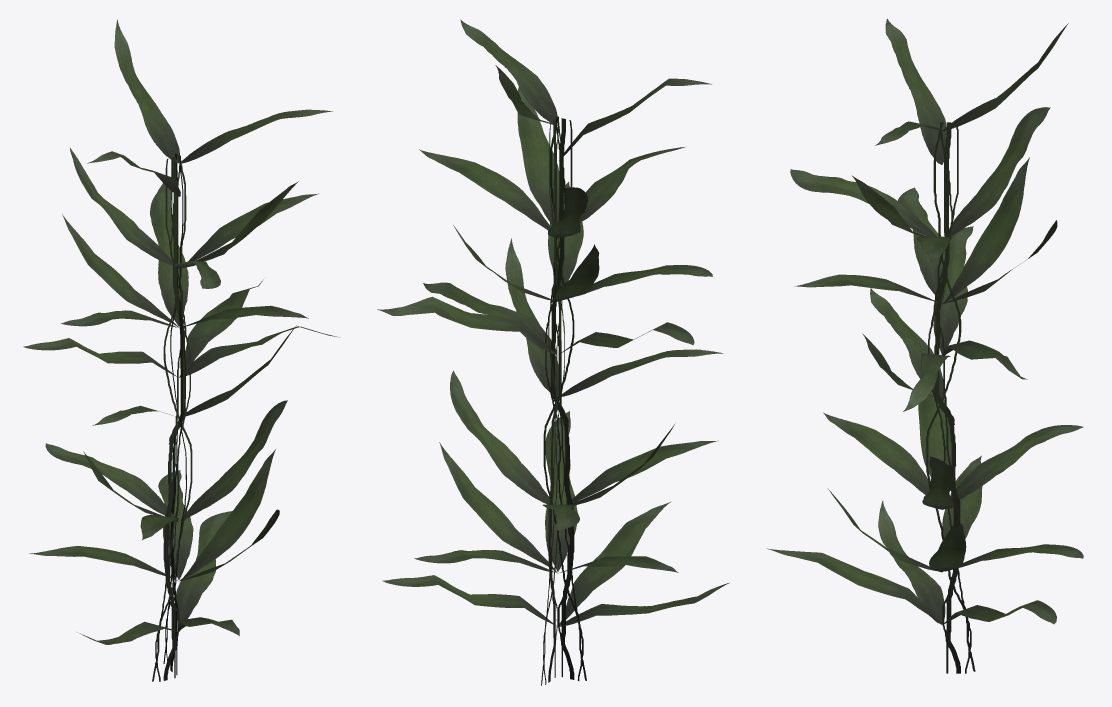
Rendered from Kelp01.dae.
The picture shows the model from 3 angles, left to right: view 1: azimuth 30°, elevation 25°; view 2: azimuth 150°, elevation 25°; view 3: azimuth 270°, elevation 25°; orthographic projection. The views are drawn at different scales.
Parts seen in each view (by area): view 1: Kelp01; view 2: Kelp01; view 3: Kelp01.
Part boxes in pixels (x1,y1,x2,y2): Kelp01: (23,19,340,681); Kelp01: (377,19,729,685); Kelp01: (767,18,1083,673).
Bounding box in the file's own units: 43.67 × 40.43 × 86.76.
1 material, 1 textured.
